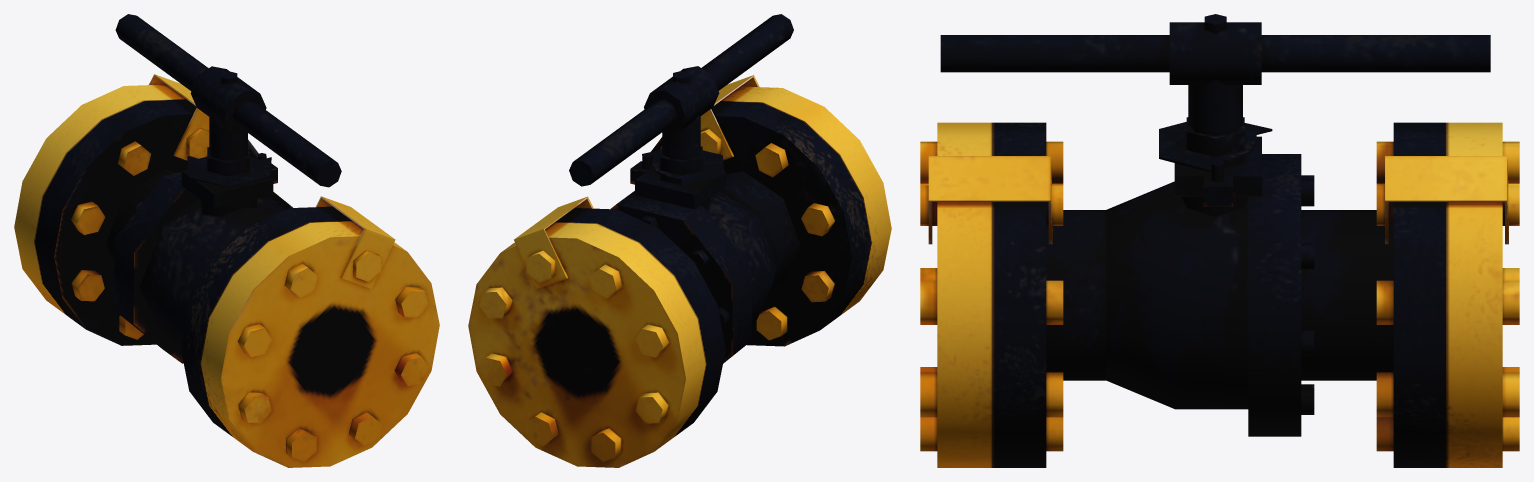
The model's file is ManualValve10S1IN.fbx.
3 views of the same model, side by side, from view 1: azimuth 30°, elevation 25°; view 2: azimuth 150°, elevation 25°; view 3: azimuth 270°, elevation 25° (orthographic). The views are drawn at different scales.
Parts seen in each view (by area): view 1: Body, Handle; view 2: Body, Handle; view 3: Body, Handle.
Boxes of the visible parts, x1,y1,x2,y2 form: Body: (14,74,439,467); Handle: (115,14,341,187); Body: (468,75,891,467); Handle: (569,14,793,186); Body: (920,122,1519,467); Handle: (940,14,1490,172).
Bounding box in the file's own units: 21.81 × 30.13 × 37.78.
Materials: 1 (1 with a texture image).
